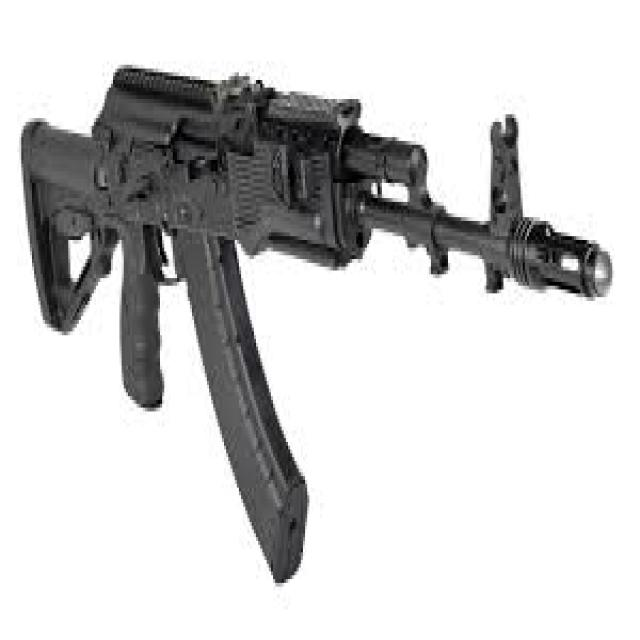rifle: (15, 41, 617, 603)
